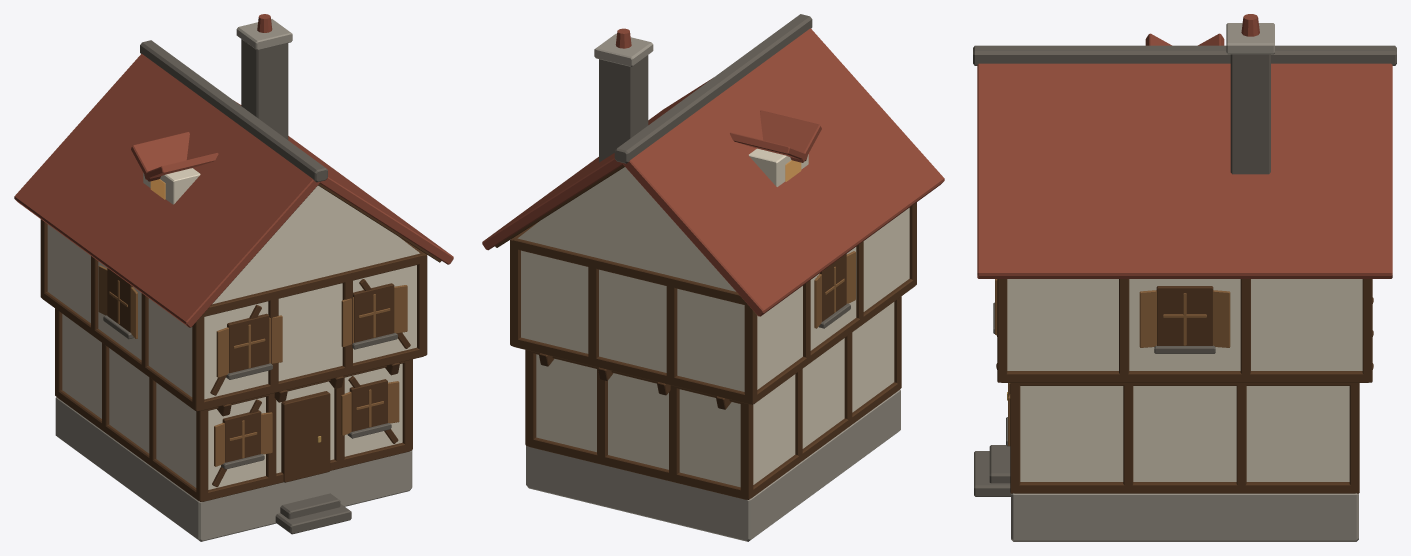
The model's file is house-timber-a.glb.
3 renders of one model, left to right at view 1: azimuth 30°, elevation 25°; view 2: azimuth 150°, elevation 25°; view 3: azimuth 270°, elevation 25°, orthographic. The views are drawn at different scales.
Parts seen in each view (by area): view 1: mat_roofClay, mat_plaster, mat_timber, mat_stone, mat_stoneDark, mat_timberLight; view 2: mat_plaster, mat_roofClay, mat_timber, mat_stone, mat_stoneDark, mat_timberLight; view 3: mat_roofClay, mat_plaster, mat_timber, mat_stone, mat_stoneDark, mat_timberLight.
Boxes of the visible parts, x1,y1,x2,y2 form: mat_roofClay: (14,14,453,327); mat_plaster: (47,168,419,489); mat_timber: (40,183,441,501); mat_stone: (55,19,412,541); mat_stoneDark: (103,39,397,534); mat_timberLight: (98,265,407,466); mat_plaster: (517,148,909,487); mat_roofClay: (482,28,944,316); mat_timber: (495,165,916,499); mat_stone: (526,33,900,541); mat_stoneDark: (599,14,850,328); mat_timberLight: (814,251,855,328); mat_roofClay: (977,14,1392,278); mat_plaster: (1007,279,1362,481); mat_timber: (996,279,1373,493); mat_stone: (1011,23,1358,541); mat_stoneDark: (973,45,1396,496); mat_timberLight: (995,279,1230,445).
Size of the model in its own units: 8.12 by 11.98 by 9.24.
